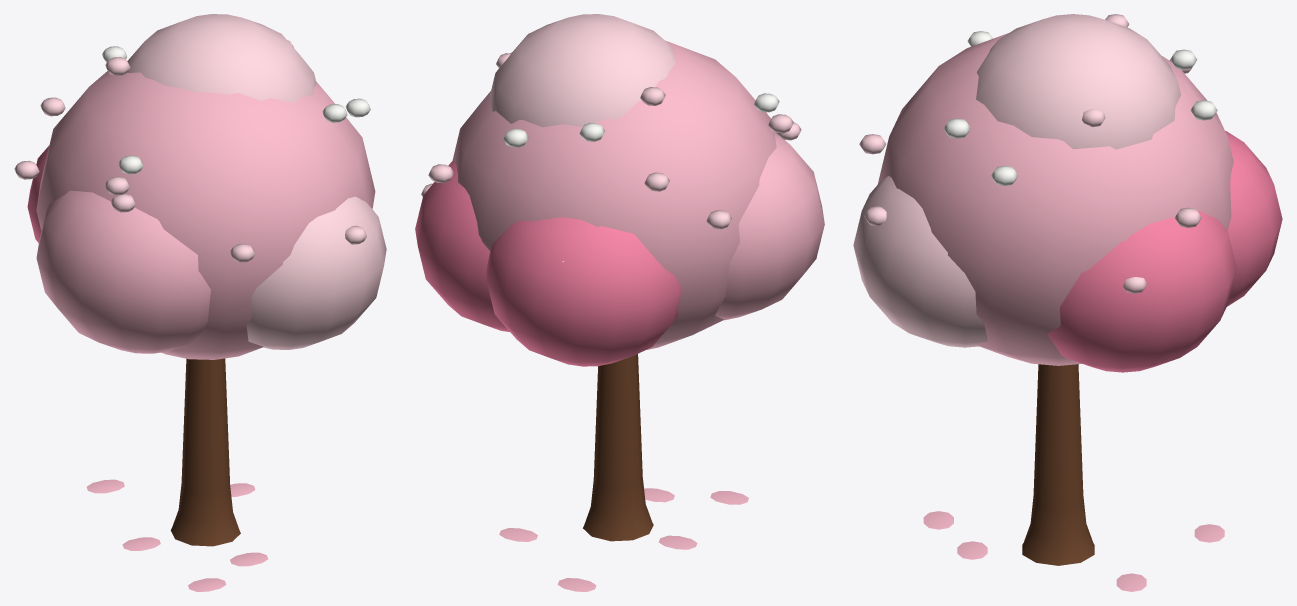
File: arvore_florida_rosa.glb
3 renders of one model, left to right at view 1: azimuth 30°, elevation 25°; view 2: azimuth 150°, elevation 25°; view 3: azimuth 270°, elevation 25°, orthographic. The views are drawn at different scales.
Parts seen in each view (by area): view 1: arvore_florida_rosa; view 2: arvore_florida_rosa; view 3: arvore_florida_rosa.
Part boxes in pixels (x1,y1,x2,y2): arvore_florida_rosa: (14, 14, 386, 591); arvore_florida_rosa: (415, 14, 824, 591); arvore_florida_rosa: (853, 14, 1282, 591).
Size of the model in its own units: 3.91 by 5.62 by 4.1.
1 material, 1 textured.
